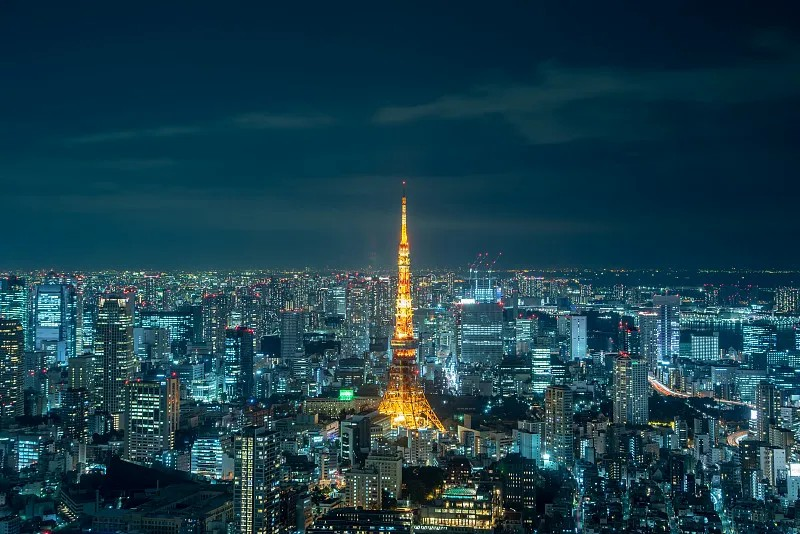Tokyo: (374, 178, 449, 437)
